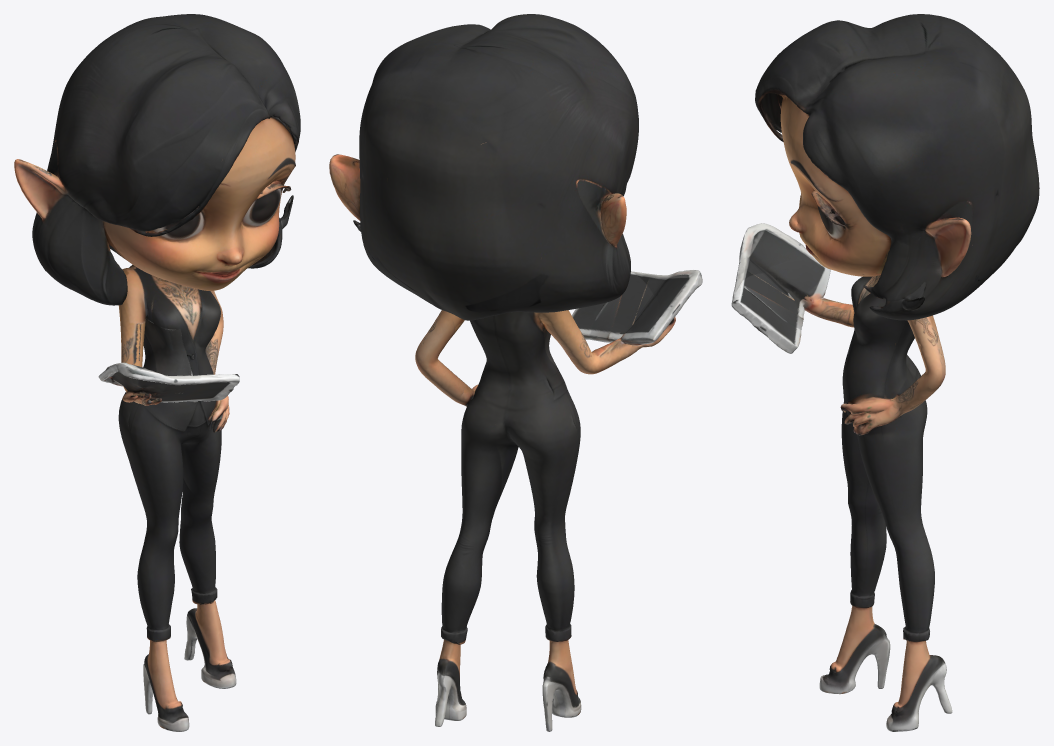
File: Meshy_AI_Sophia_0918001337_texture.glb
3 views of the same model, side by side, from view 1: azimuth 30°, elevation 25°; view 2: azimuth 150°, elevation 25°; view 3: azimuth 270°, elevation 25° (orthographic). The views are drawn at different scales.
Size of the model in its own units: 0.8547 by 1.99 by 0.8208.
Materials: 1 (1 with a texture image).
